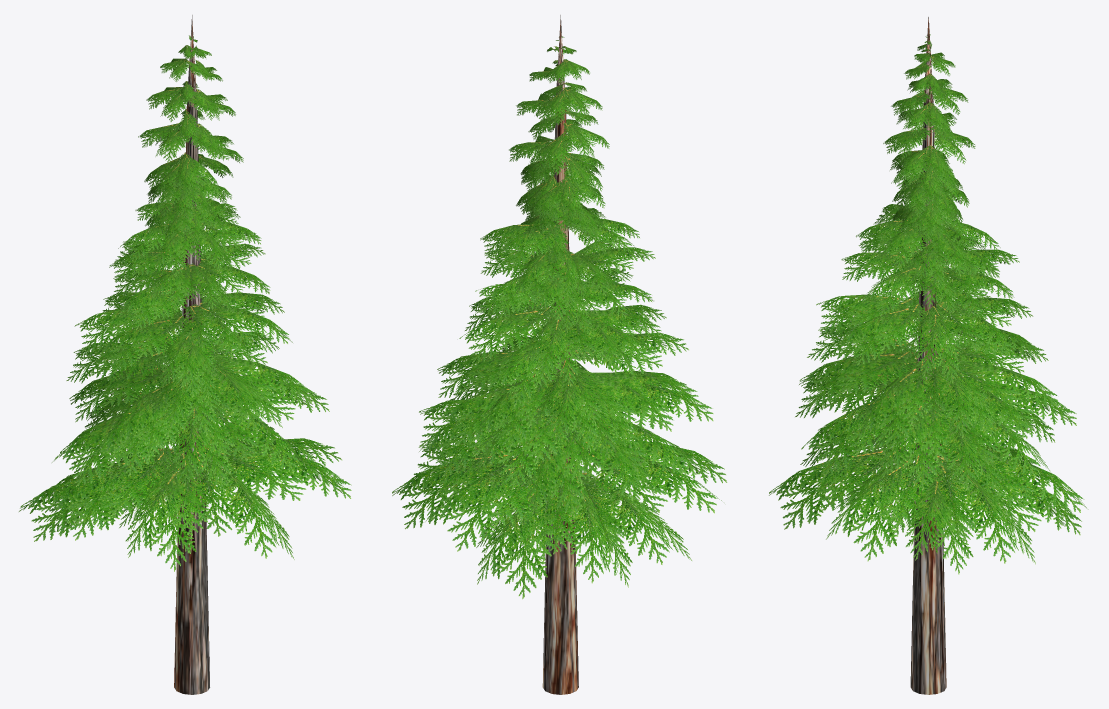
Rendered from tree_conifer_03.glb.
3 views of the same model, side by side, from view 1: azimuth 30°, elevation 25°; view 2: azimuth 150°, elevation 25°; view 3: azimuth 270°, elevation 25° (orthographic).
Parts seen in each view (by area): view 1: env; view 2: env; view 3: env.
Part boxes in pixels (x1,y1,x2,y2): env: (19, 15, 351, 694); env: (392, 15, 727, 694); env: (769, 17, 1088, 694).
Size of the model in its own units: 2.6 by 5.5 by 2.45.
1 material, 1 textured.
